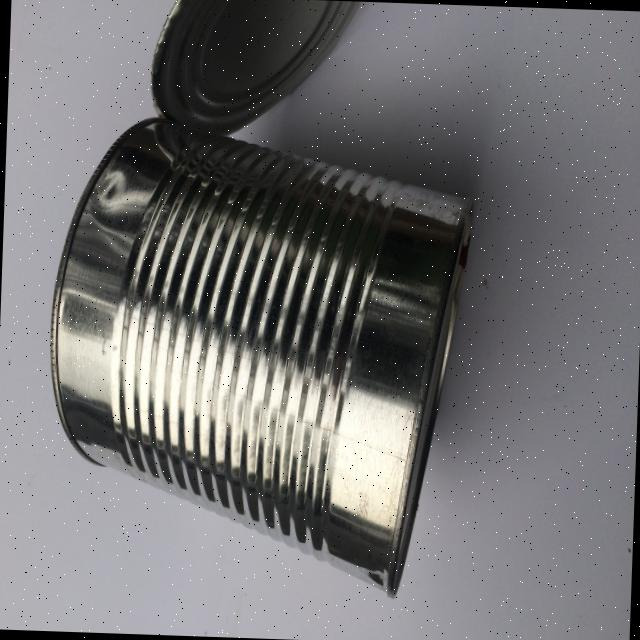metal: (41, 110, 477, 600)
